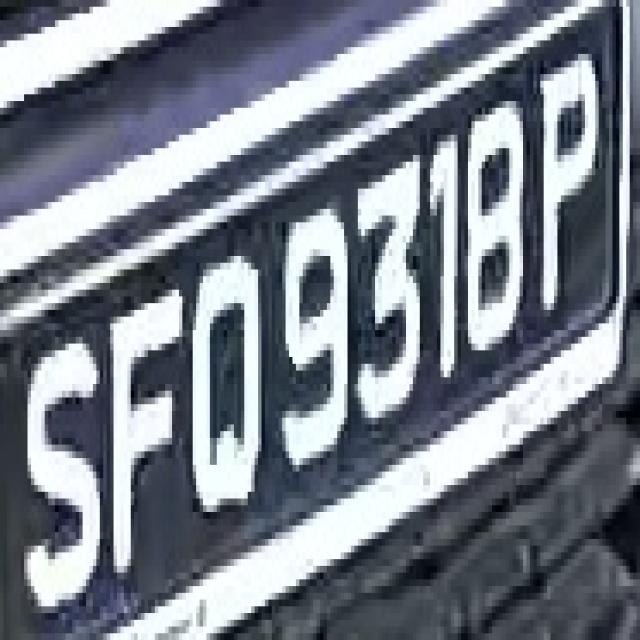1: (423, 121, 468, 411)
3: (348, 142, 427, 431)
8: (454, 128, 534, 364)
9: (268, 209, 358, 492)
F: (100, 276, 186, 580)
P: (530, 47, 616, 330)
Q: (182, 216, 262, 532)
S: (13, 316, 106, 626)
